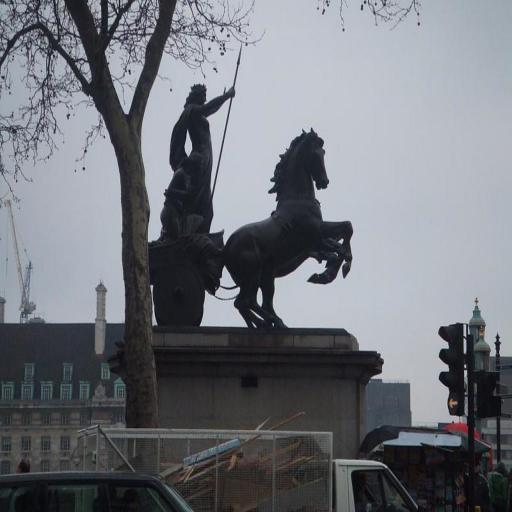Horse: (220, 126, 355, 324)
